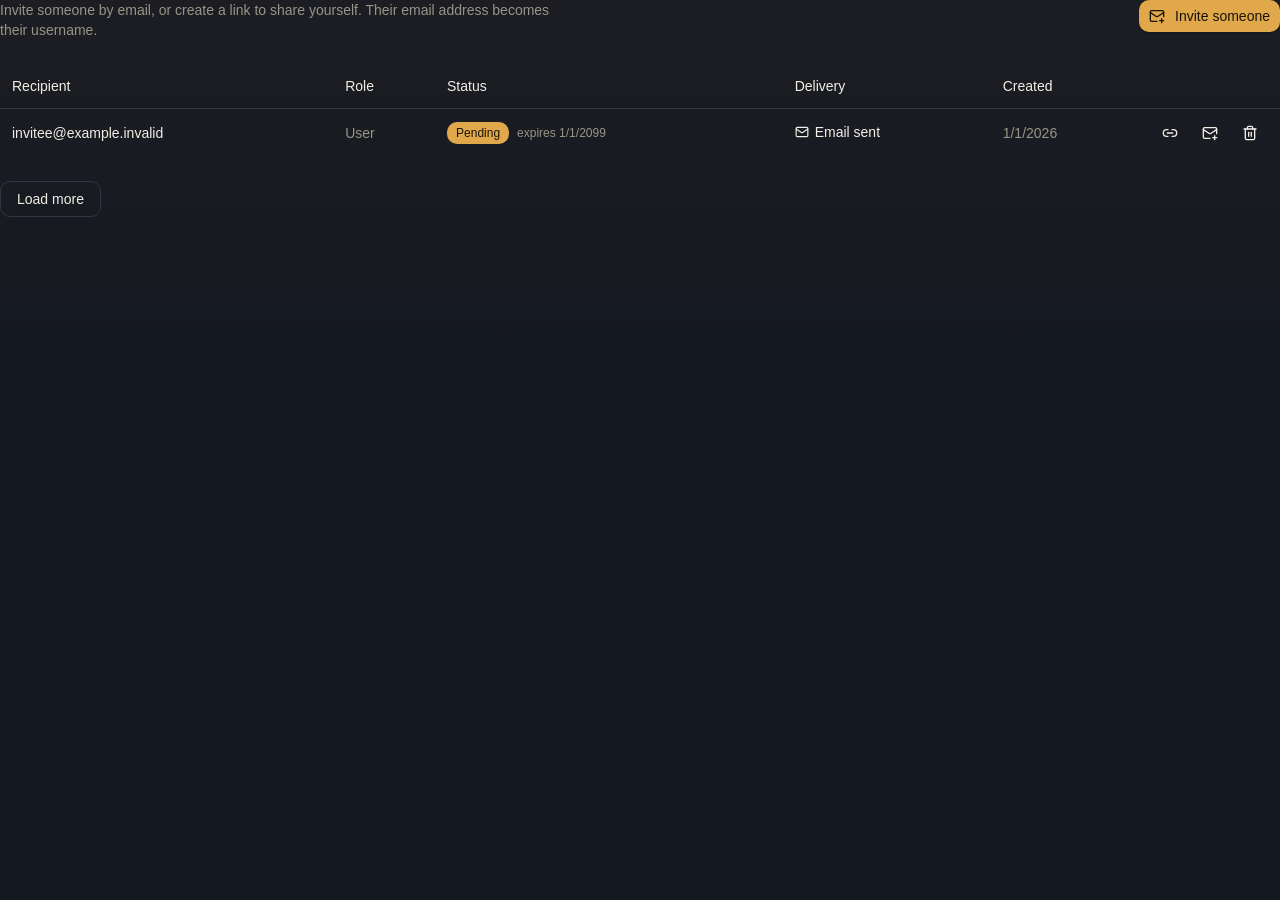
Test: keeps a one-time link after clipboard failure, resets mutation state, and disposes on scope change
Click the button titled "Email a new link": (1210, 133) [1192,117,1228,149]
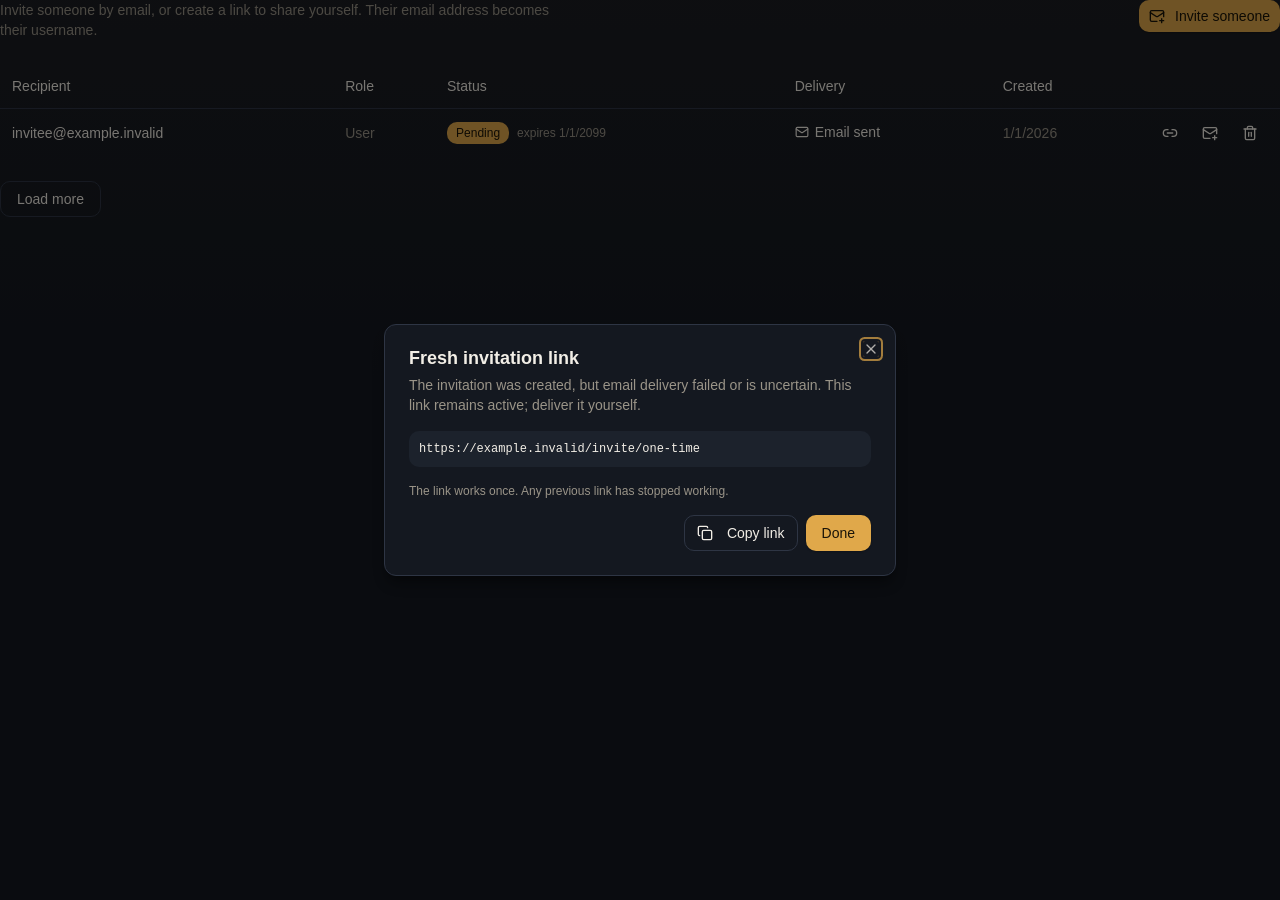
Now the text "email delivery failed or is uncertain" is shown, box [409,377,852,413]
Click the button "Copy link": (741, 533) [684,515,798,551]
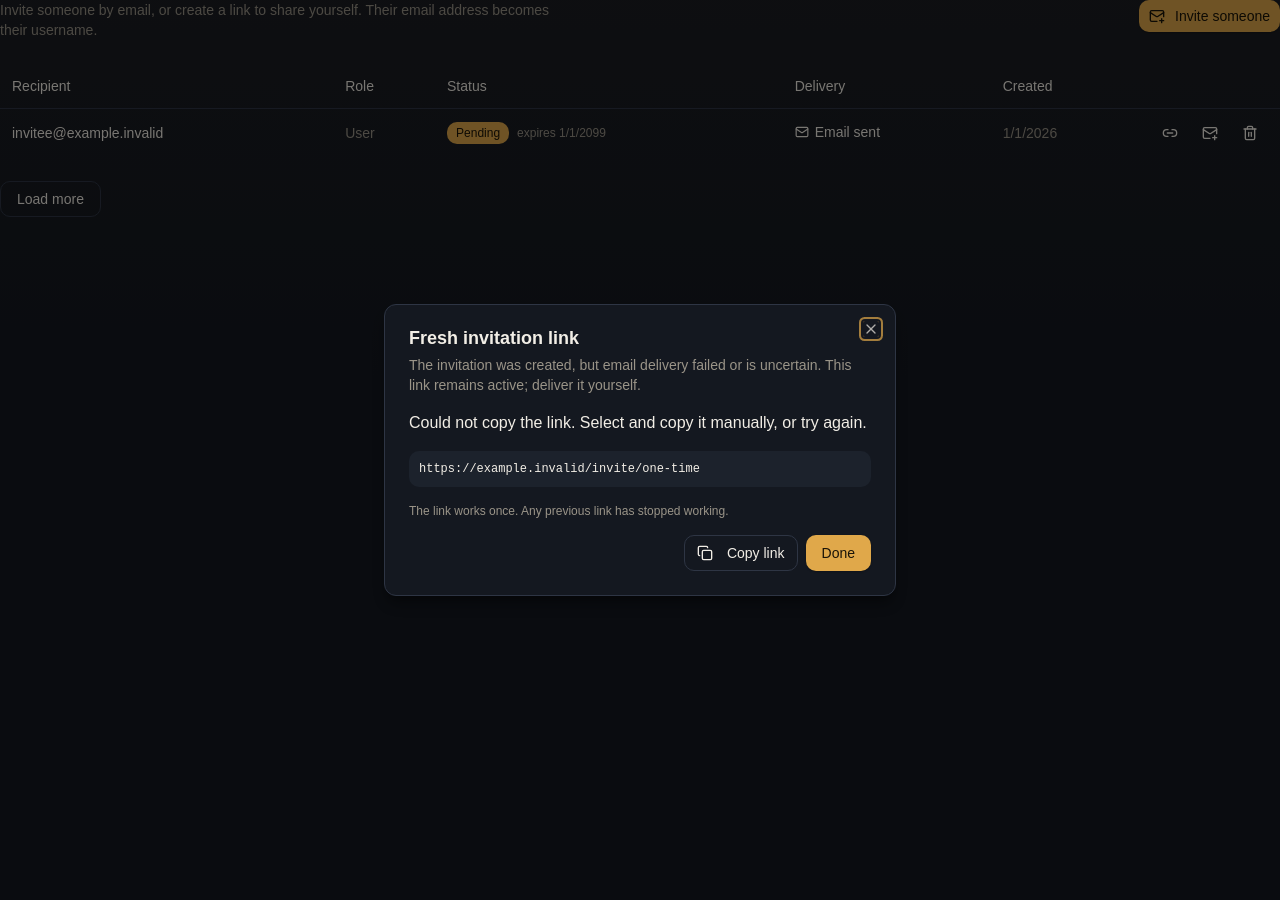
Now the text "https://example.invalid/invite/one-time" is shown, box [419,462,700,476]
Now the text "Could not copy the link. Select and copy it manually, or try again." is shown, box [409,411,871,435]
